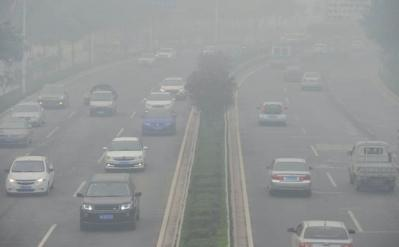car: (74, 171, 141, 232), (348, 138, 399, 193), (265, 155, 314, 198), (4, 155, 55, 194), (284, 219, 355, 247), (101, 136, 151, 173), (141, 108, 179, 137), (1, 117, 34, 149), (36, 80, 71, 110), (9, 102, 45, 128), (255, 100, 290, 126), (143, 90, 177, 116), (85, 83, 118, 107), (88, 90, 117, 117), (158, 76, 187, 99), (143, 44, 176, 63), (300, 70, 323, 92), (136, 50, 156, 68), (283, 64, 304, 80)
